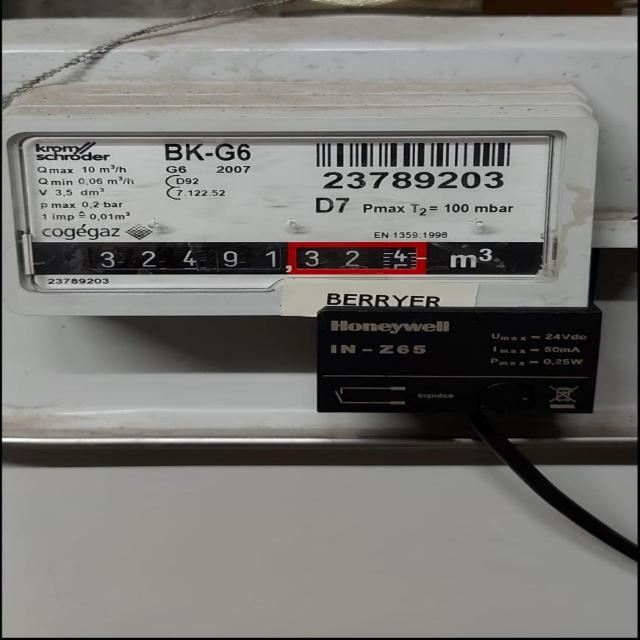gaz_meter: (13, 133, 557, 280)
indication: (32, 239, 425, 277)
